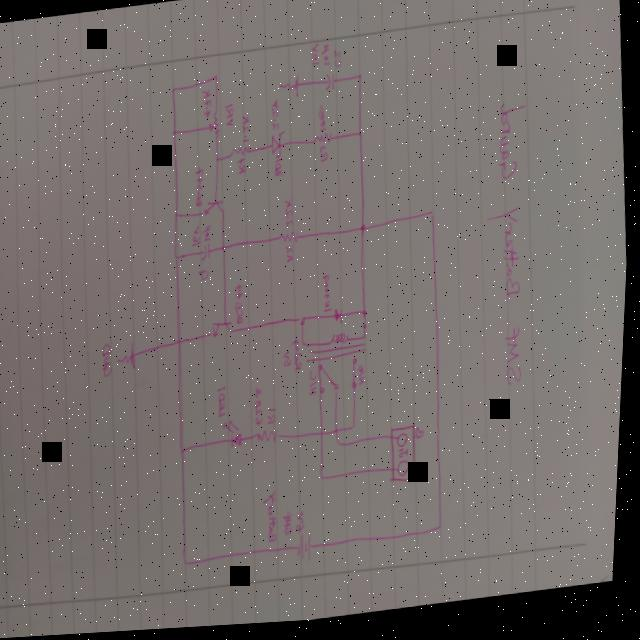capacitor: (202, 244, 214, 264), (326, 76, 337, 95)
crossover: (337, 430, 344, 440), (323, 433, 330, 441)
diode: (225, 420, 248, 452), (272, 132, 289, 162), (336, 310, 346, 328)
ground: (120, 345, 142, 373), (279, 77, 302, 103)
junction: (187, 558, 196, 570), (323, 474, 331, 486), (430, 213, 438, 223), (339, 441, 347, 451), (183, 447, 191, 456), (303, 319, 310, 329), (172, 129, 180, 137), (171, 88, 179, 96), (213, 75, 221, 83), (354, 426, 361, 435), (361, 227, 368, 236), (441, 528, 448, 537), (179, 339, 186, 348), (176, 254, 183, 262), (216, 157, 223, 165), (364, 312, 371, 320), (358, 133, 364, 142), (176, 212, 182, 220), (223, 247, 229, 255), (358, 76, 364, 84)
resistor: (257, 430, 285, 449), (207, 111, 223, 143), (282, 233, 301, 248), (232, 147, 252, 161), (315, 135, 334, 149)
source: (300, 536, 319, 568)
terminal: (401, 463, 416, 482), (401, 436, 414, 452)
text: (476, 84, 544, 402), (265, 493, 285, 546), (235, 284, 250, 328), (323, 276, 337, 318), (194, 169, 208, 210), (256, 388, 270, 429), (219, 387, 233, 425), (103, 342, 117, 380), (293, 340, 307, 375), (202, 88, 215, 124), (284, 201, 297, 232), (310, 371, 323, 401), (271, 101, 282, 134), (287, 514, 300, 540), (310, 44, 323, 70), (242, 115, 253, 145), (320, 45, 333, 70), (225, 104, 237, 131), (285, 350, 298, 373), (318, 108, 329, 135), (299, 515, 311, 538), (360, 367, 370, 390), (333, 50, 343, 72), (194, 227, 204, 248), (271, 410, 282, 429), (203, 227, 215, 244), (237, 160, 249, 177), (320, 149, 332, 166), (287, 246, 297, 266), (275, 160, 285, 180), (200, 270, 213, 283), (419, 429, 429, 445), (402, 451, 413, 463), (421, 466, 431, 478)
transistor: (213, 318, 237, 340), (202, 201, 228, 220)
